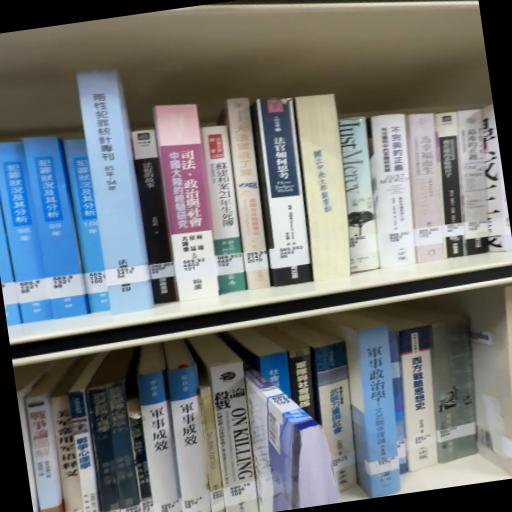backward: (290, 94, 362, 284)
book: (154, 102, 228, 307), (251, 95, 321, 289), (339, 328, 414, 500), (196, 121, 252, 297), (399, 112, 459, 266), (163, 363, 219, 512), (133, 368, 185, 512)
